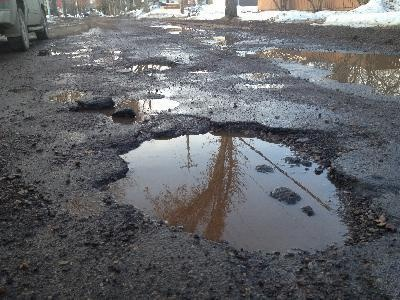pothole: (94, 116, 381, 254), (127, 58, 174, 74), (39, 87, 86, 102), (139, 95, 181, 111)
